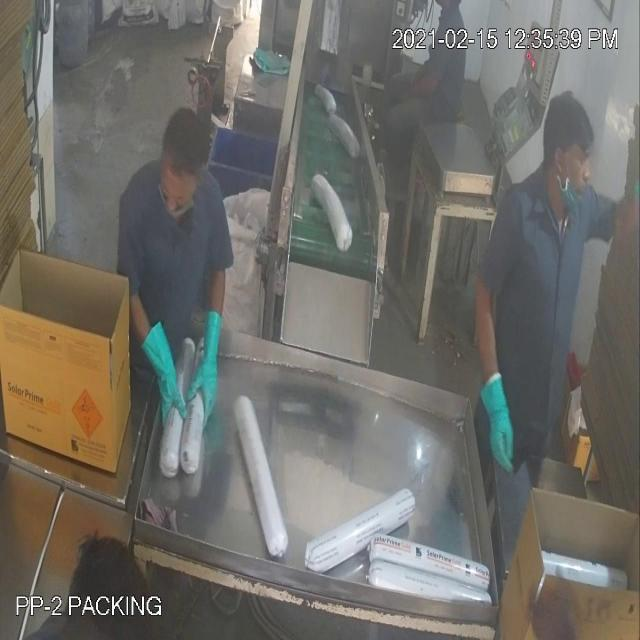Gloves: (41, 127, 496, 418)
